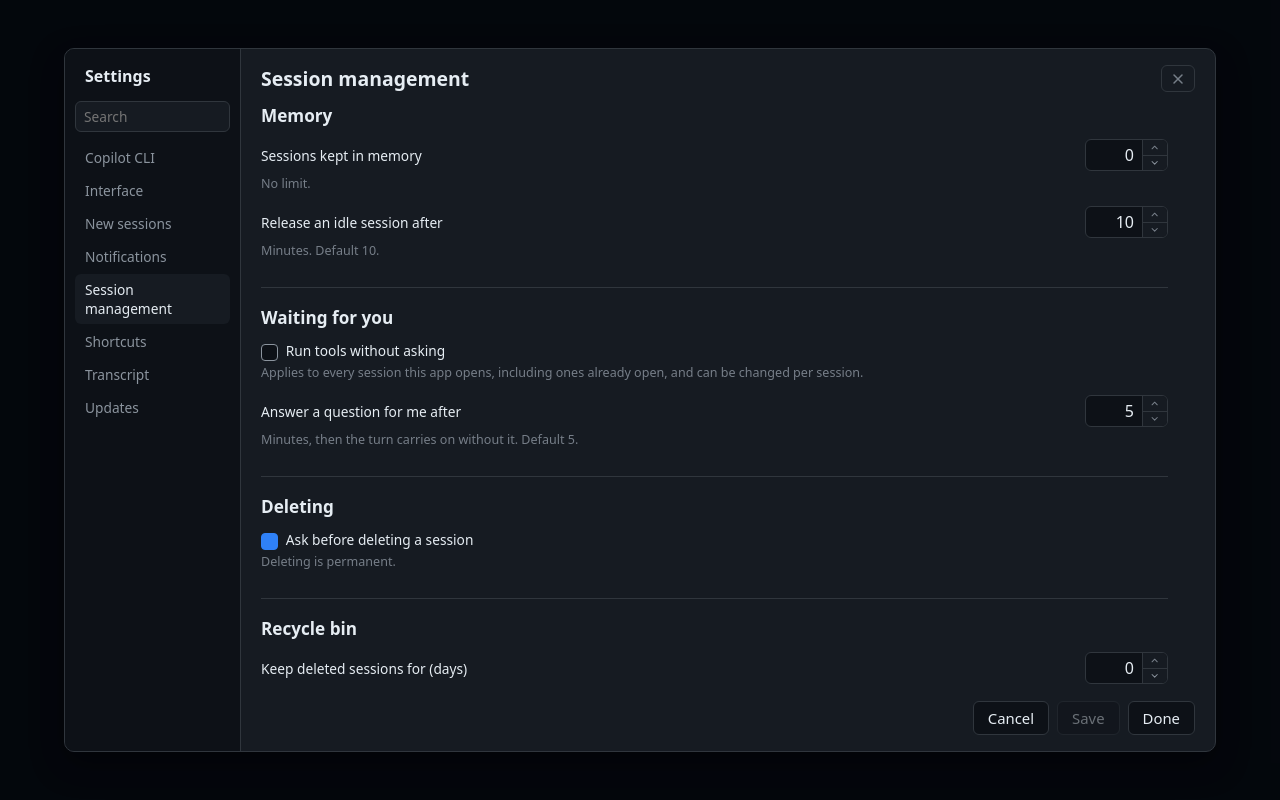
Test: disk usage details in settings › honours saved confirmation and retention settings rather than unsaved changes
This screenshot has width=1280, height=800.
Click the button "Session management": click(152, 299) [75, 274, 230, 324]
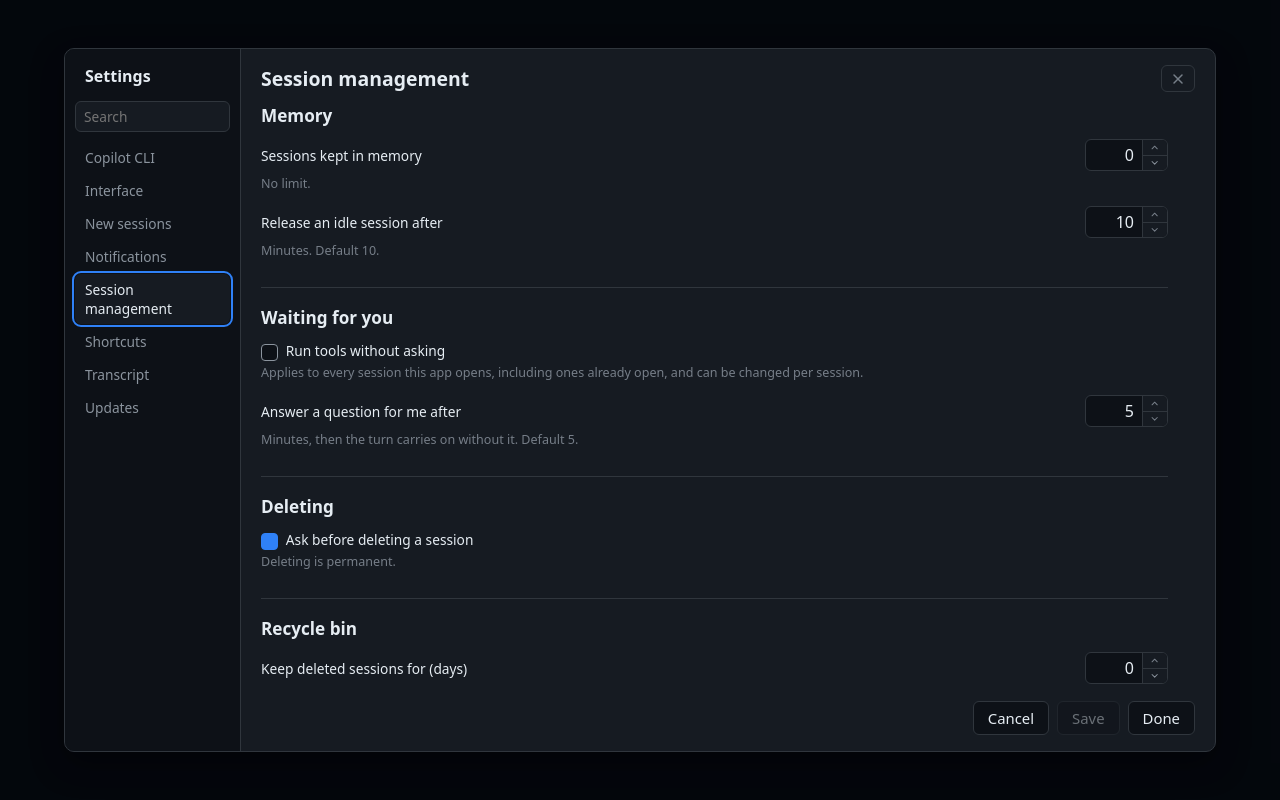
Click the checkbox labelled "Ask before deleting a session": click(269, 542) [261, 533, 278, 550]
(page scrolled)
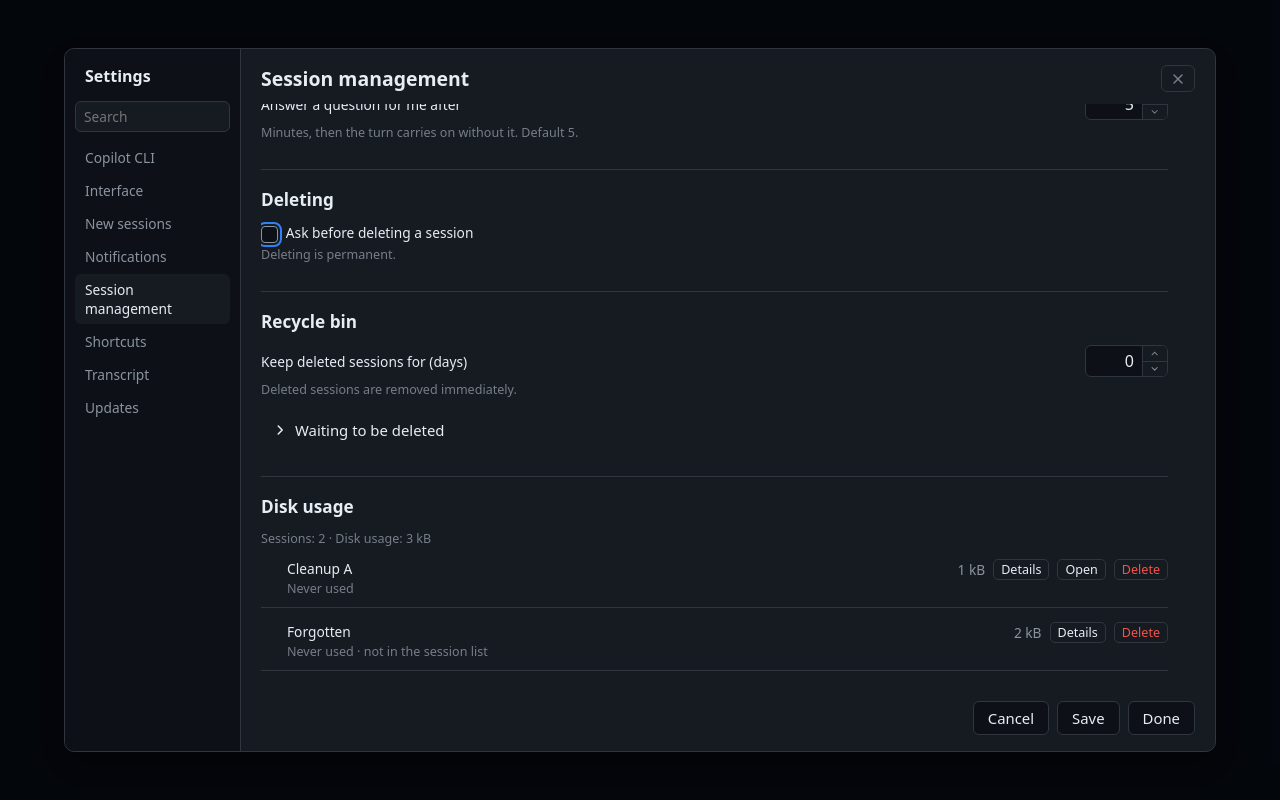
Click the button "Delete" in the row of "1 kB": click(1141, 570) [1114, 559, 1168, 580]
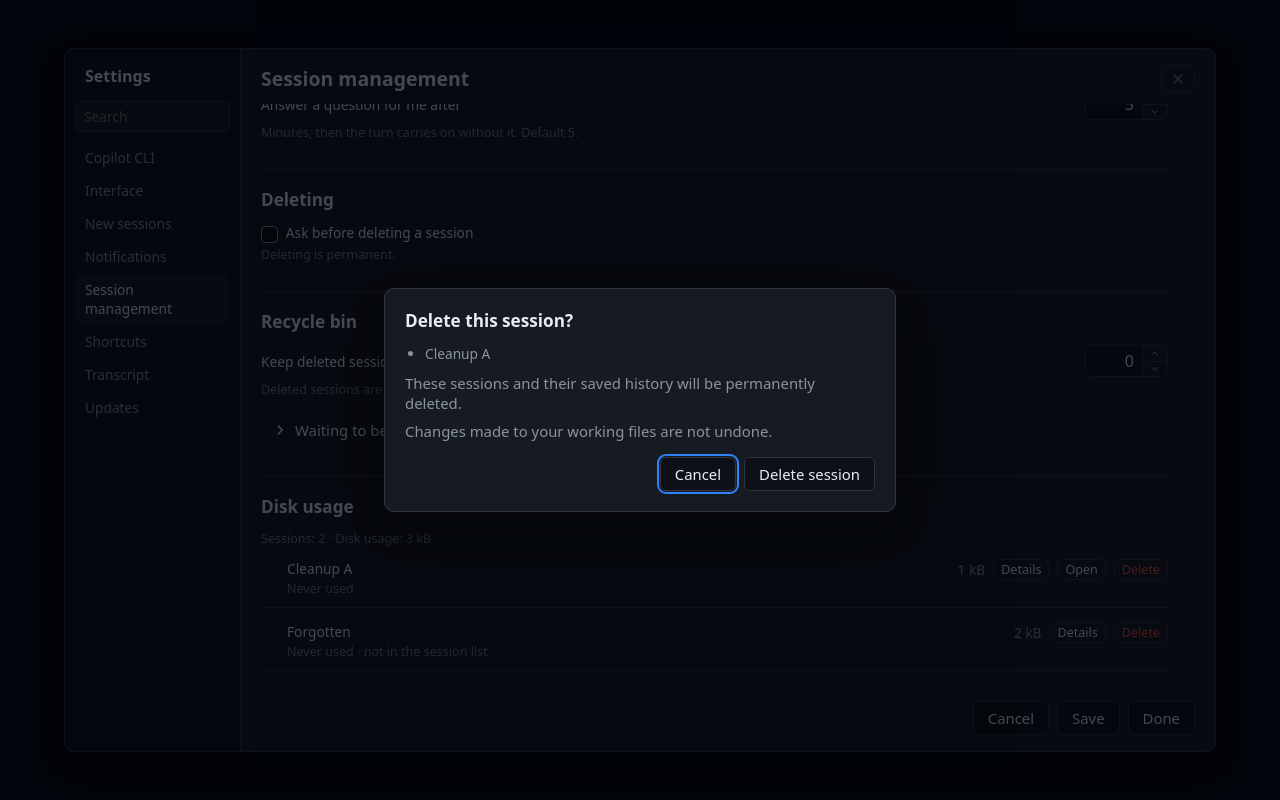
Result: the text "These sessions and their saved history will be permanently deleted." is shown at [405, 373, 875, 413]
